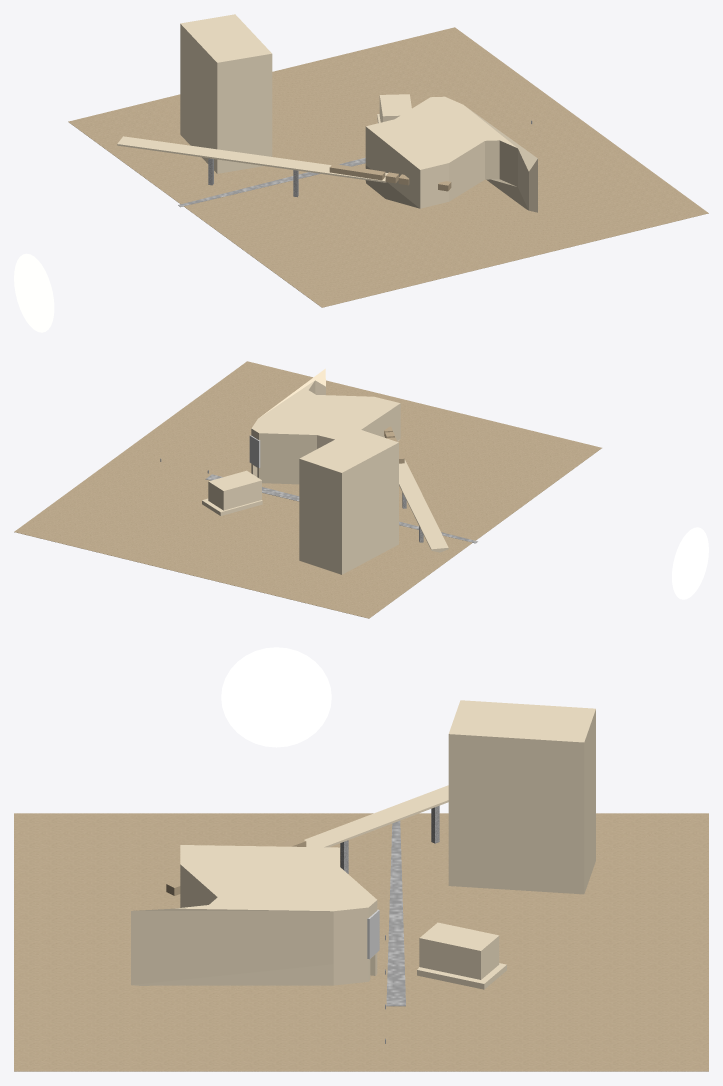
3 renders of one model, top to bottom at view 1: azimuth 30°, elevation 25°; view 2: azimuth 150°, elevation 25°; view 3: azimuth 270°, elevation 25°, orthographic. The views are drawn at different scales.
Visible parts, largest first — view 1: ground, Railway.001, Circle, the way, 立方體; view 2: ground, Railway.001, Circle, the way; view 3: ground, Railway.001, Circle, the way.
Boxes of the visible parts, <box> form: ground: <box>68,27,708,307</box>; Railway.001: <box>117,14,537,212</box>; Circle: <box>14,253,54,332</box>; the way: <box>178,120,532,207</box>; 立方體: <box>329,164,451,191</box>; ground: <box>14,361,601,618</box>; Railway.001: <box>202,368,448,574</box>; Circle: <box>672,527,708,599</box>; the way: <box>160,458,477,543</box>; ground: <box>14,813,708,1071</box>; Railway.001: <box>131,700,595,989</box>; Circle: <box>221,647,331,747</box>; the way: <box>340,805,439,1043</box>.
Size of the model in its own units: 143 by 37.02 by 109.
4 materials, 2 textured.
